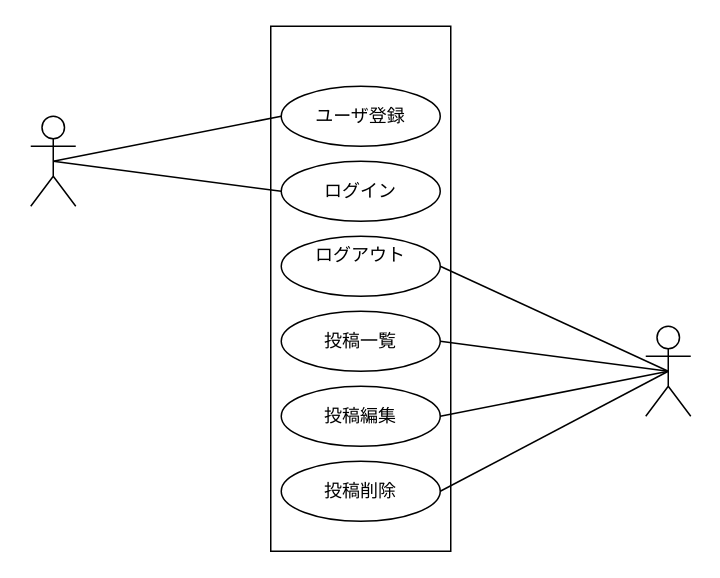
Some shapes in this 720 by 578 pixel diagram are drawn without their labels. Each missing label, with the box of its shape:
投稿アプリ: (269, 25, 451, 551)
投稿者: (644, 325, 691, 416)
訪問者: (29, 115, 76, 206)
